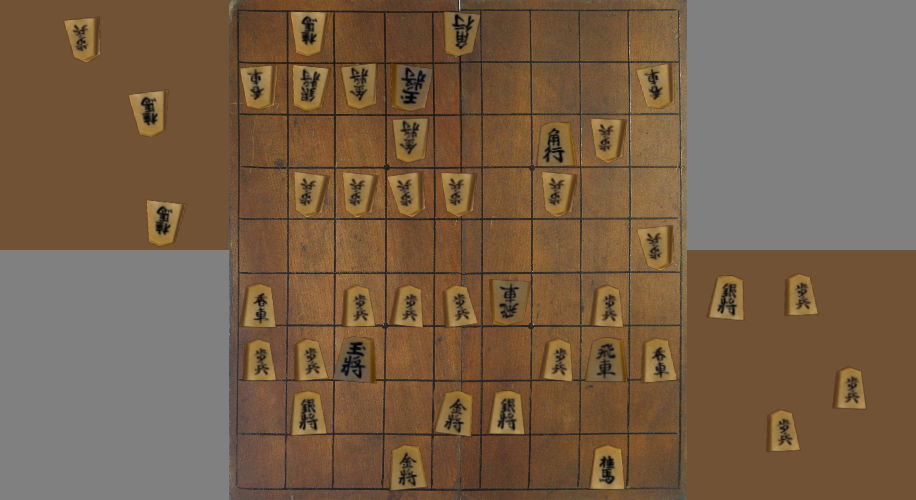A: (334, 338, 374, 382), (588, 338, 625, 381), (538, 123, 575, 165), (436, 392, 471, 436), (391, 446, 426, 490), (292, 392, 325, 435), (490, 391, 523, 434), (643, 339, 676, 382), (591, 446, 623, 489), (444, 286, 477, 327), (243, 284, 275, 326), (296, 340, 327, 380), (593, 286, 623, 327), (244, 340, 274, 380), (543, 340, 572, 381), (393, 286, 421, 327), (345, 286, 373, 326)
B: (491, 280, 528, 324), (394, 65, 430, 110), (341, 64, 376, 109), (294, 66, 328, 110), (444, 13, 479, 55), (638, 65, 672, 108), (638, 226, 672, 269), (390, 172, 423, 216), (543, 172, 576, 216), (292, 13, 326, 55), (394, 119, 427, 161), (242, 66, 274, 109), (295, 173, 327, 216), (344, 173, 376, 216), (443, 174, 475, 216), (593, 120, 623, 161)
C: (709, 277, 742, 320), (835, 368, 865, 409), (787, 275, 817, 314), (770, 411, 799, 451)
D: (147, 201, 184, 246), (129, 91, 165, 136), (65, 18, 99, 61)
